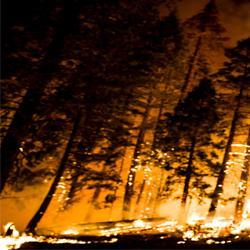fire: (161, 217, 250, 234), (0, 231, 22, 250)
